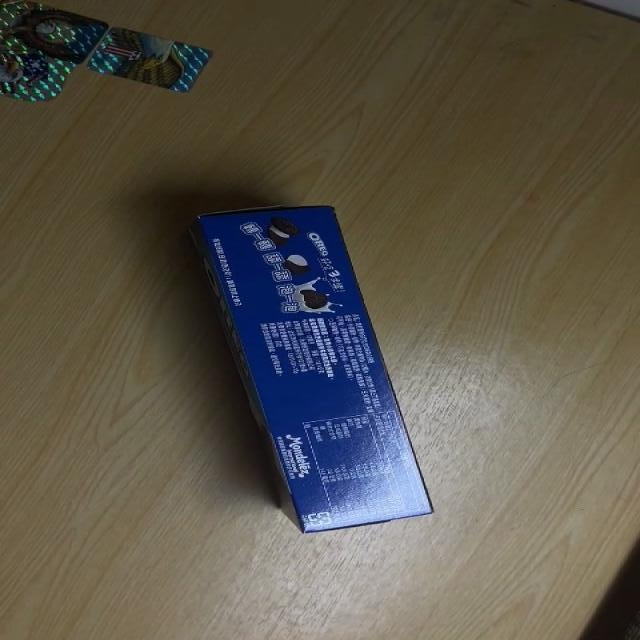Oreo: (197, 205, 437, 536)
